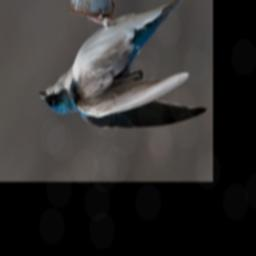Swallow: (37, 0, 209, 132)
